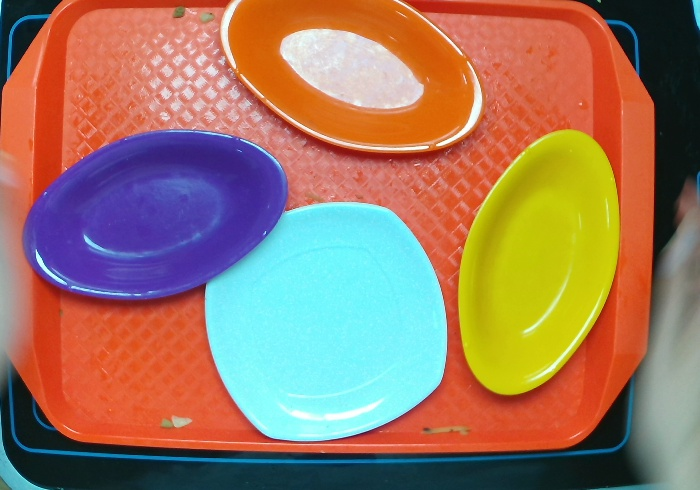RJxy-Fen_Hong_Tuo_Yuan: (26, 127, 288, 306)
RJxy-Huang_Se_Tuo_Yuan: (455, 127, 623, 405)
RJxy-Ju_Huang_Tuo_Yuan: (225, 1, 490, 161)
RJxy-Si_Fang_Die: (199, 203, 446, 435)
